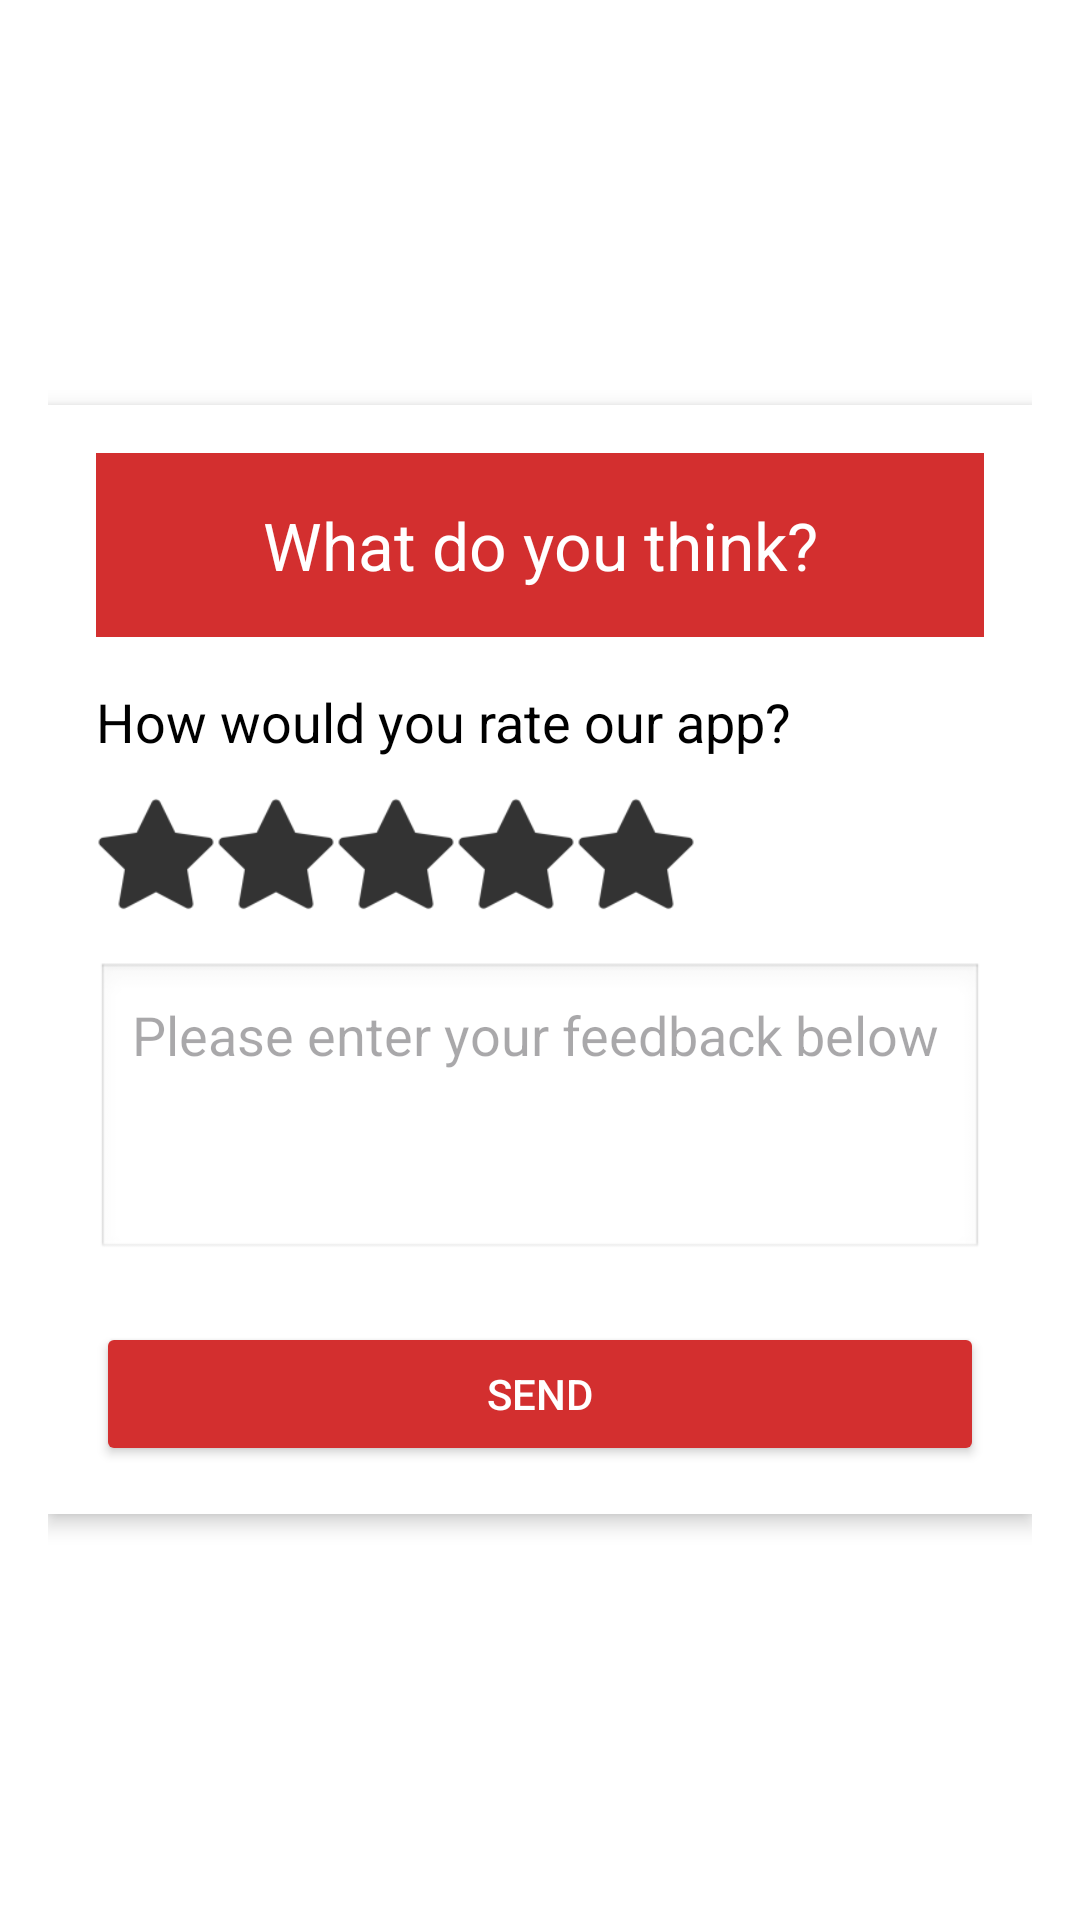

Locate icon controls on the screen. Image size 1080w x 1920h, boxes as (x1, y1, x2, y2).
Star 1: (98, 799, 214, 909)
Star 2: (218, 799, 334, 909)
Star 3: (338, 799, 454, 909)
Star 4: (458, 799, 574, 909)
Star 5: (578, 799, 694, 909)
